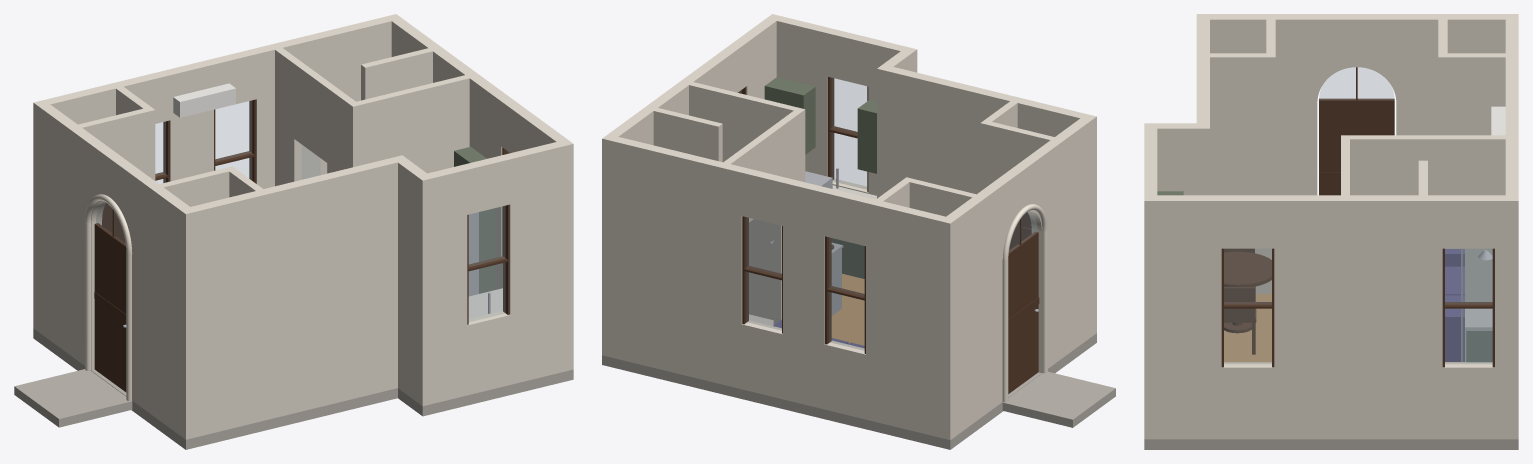
The model's file is spanish-style-studio.glb.
3 renders of one model, left to right at view 1: azimuth 30°, elevation 25°; view 2: azimuth 150°, elevation 25°; view 3: azimuth 270°, elevation 25°, orthographic. The views are drawn at different scales.
Parts seen in each view (by area): view 1: wall_south_west_1, wall_south_4, wall_west_3, wall_west_1, wall_south_1, bath_wall_south_1, wall_north_7, wall_step_1, door_entry_leaf, entry_landing, wall_east_4, wall_north_4 (+33 smaller); view 2: wall_north_7, wall_north_1, wall_south_west_1, wall_west_1, wall_west_3, wall_north_4, bath_wall_south_1, slab_main, wall_south_4, door_entry_leaf, entry_landing, window_2_living_glass (+33 smaller); view 3: wall_east_4, wall_east_7, wall_west_3, closet_s_side_1, wall_west_1, window_5_kitchen_glass, window_4_bath_glass, closet_n_side_1, wall_north_7, wall_west_2, wall_east_5, wall_east_2 (+28 smaller).
Part boxes in pixels (x1,y1,x2,y2): wall_south_west_1: (179, 155, 408, 439); wall_south_4: (504, 139, 573, 384); wall_west_3: (128, 169, 196, 439); wall_west_1: (33, 100, 101, 370); wall_south_1: (416, 165, 467, 405); bath_wall_south_1: (348, 75, 469, 173); wall_north_7: (251, 14, 401, 188); wall_step_1: (398, 160, 431, 405); door_entry_leaf: (94, 223, 126, 392); entry_landing: (14, 369, 132, 427); wall_east_4: (421, 40, 511, 289); wall_north_4: (165, 60, 213, 181); wall_north_7: (602, 134, 747, 389); wall_north_1: (866, 198, 955, 439); wall_south_west_1: (877, 64, 1096, 336); wall_west_1: (940, 180, 1005, 439); wall_west_3: (1031, 114, 1096, 372); wall_north_4: (783, 178, 829, 409); bath_wall_south_1: (689, 82, 805, 320); slab_main: (602, 333, 1096, 449); wall_south_4: (767, 14, 832, 176); door_entry_leaf: (1008, 231, 1038, 393); entry_landing: (1002, 371, 1115, 427); window_2_living_glass: (829, 237, 864, 350); wall_east_4: (1274, 195, 1442, 439); wall_east_7: (1144, 195, 1221, 439); wall_west_3: (1197, 14, 1317, 195); closet_s_side_1: (1210, 53, 1275, 293); wall_west_1: (1396, 14, 1518, 135); window_5_kitchen_glass: (1224, 249, 1271, 363); window_4_bath_glass: (1445, 249, 1492, 363); closet_n_side_1: (1438, 53, 1505, 248); wall_north_7: (1505, 126, 1518, 439); wall_west_2: (1317, 14, 1396, 67); wall_east_5: (1221, 362, 1274, 439); wall_east_2: (1442, 362, 1494, 439).
Size of the model in its own units: 6.17 by 3.19 by 4.34.
